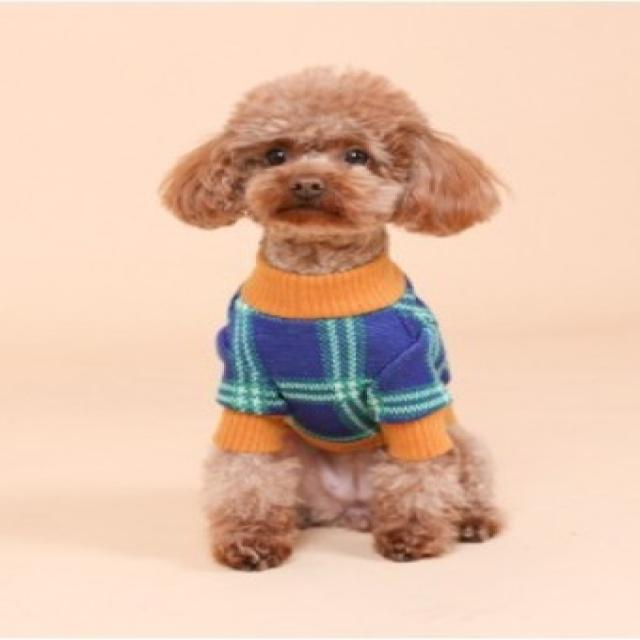cloth: (217, 255, 452, 459)
